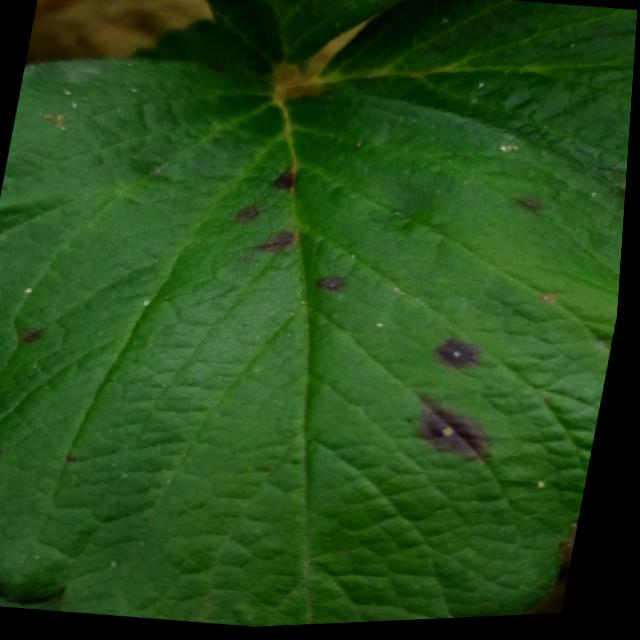Leaf Spot: (0, 58, 628, 630), (318, 0, 638, 203), (202, 0, 404, 73)
